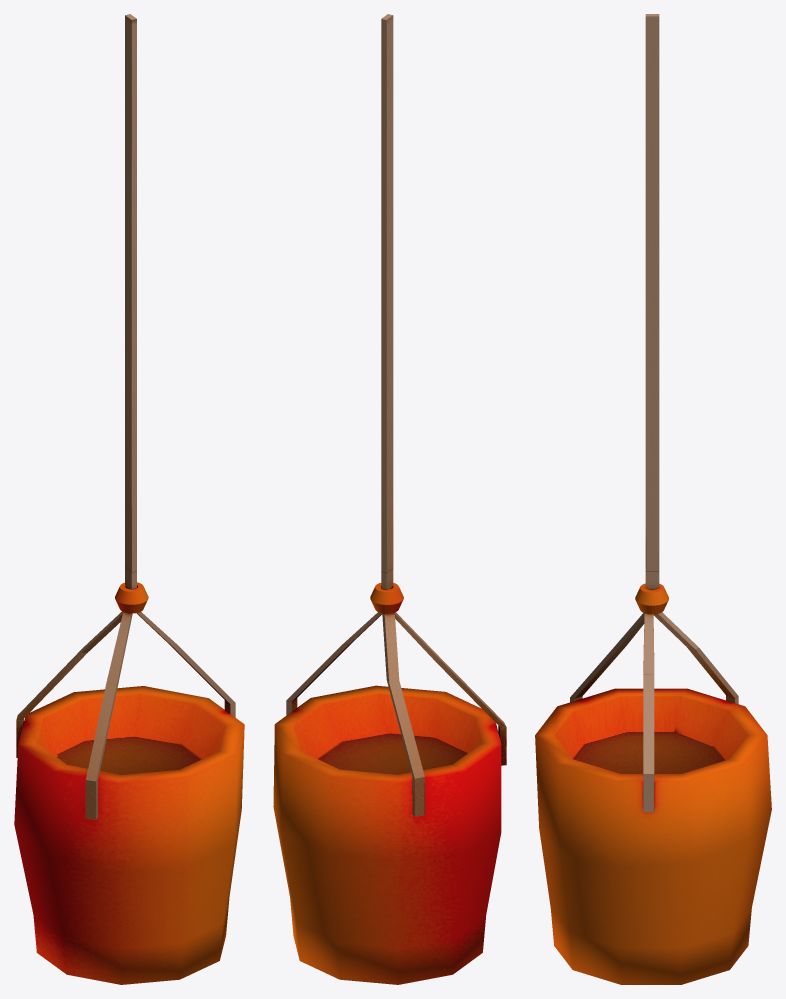
File: Plant_pot.fbx
3 views of the same model, side by side, from view 1: azimuth 30°, elevation 25°; view 2: azimuth 150°, elevation 25°; view 3: azimuth 270°, elevation 25° (orthographic).
Visible parts, largest first — view 1: Cylinder.006; view 2: Cylinder.006; view 3: Cylinder.006.
Part boxes in pixels (x1,y1,x2,y2): Cylinder.006: [14, 14, 244, 984]; Cylinder.006: [273, 14, 506, 984]; Cylinder.006: [535, 14, 771, 984].
Size of the model in its own units: 81.1 by 364 by 83.97.
